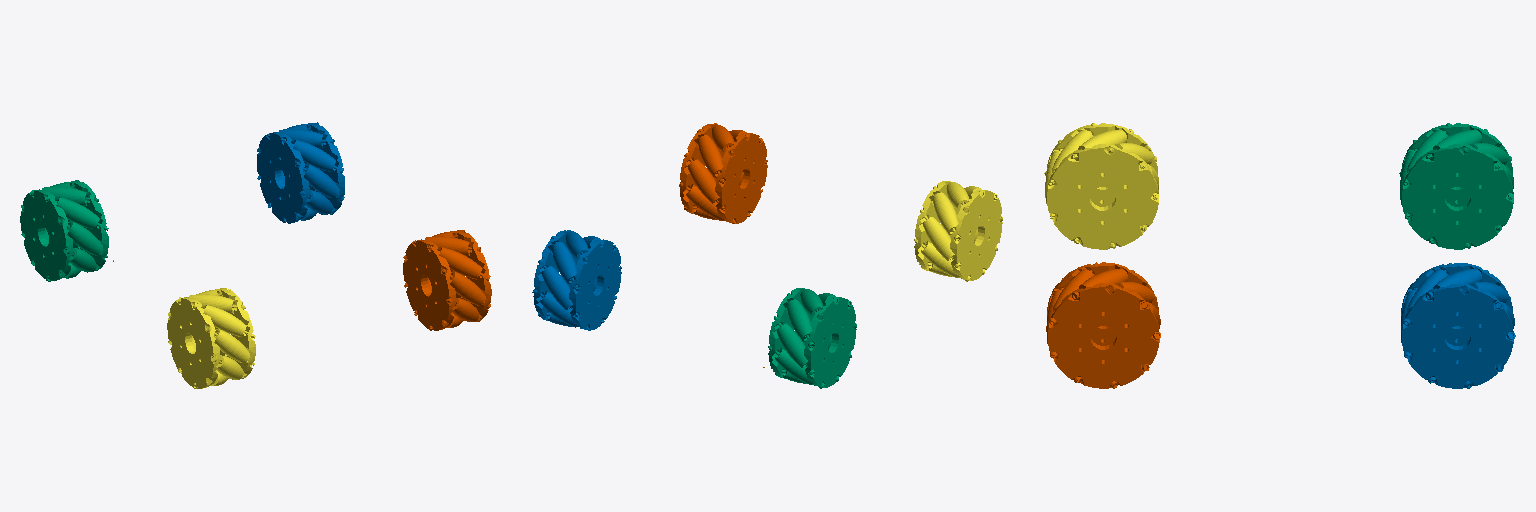
robot.urdf — mecanum_wheeled_robot:
<?xml version="1.0" ?>
<robot name="mecanum_wheeled_robot" >
  <!-- Wheels -->
  <!-- in kg-->
  <!-- Defining the colors used in this robot -->
  <material name="Black">
    <color rgba="0.0 0.0 0.0 1.0"/>
  </material>
  <material name="Red">
    <color rgba="0.8 0.0 0.0 1.0"/>
  </material>
  <material name="White">
    <color rgba="1.0 1.0 1.0 1.0"/>
  </material>
  <material name="Blue">
    <color rgba="0.0 0.0 0.8 1.0"/>
  </material>
  <material name="base">
   <texture filename="package://thedush_robots/texture/texture5.jpg"/>
  </material>
   <material name="Wheels1">
   <texture filename="package://thedush_robots/texture/texture2.png"/>
  </material>
  <!-- PROPERTY LIST -->
  <!--All units in m-kg-s-radians unit system -->
  <!-- Main body radius and height -->
  <!-- Main Body Cylinder base   -->
  <!-- in kg-->
  <!-- caster wheel radius and height -->
  <!-- caster wheel mass -->
  <!-- in kg-->
  <!-- caster wheel radius and height -->
  <!-- caster wheel mass -->
  <!-- in kg-->
  <!-- Wheels -->
 
 
  <!-- in kg-->
  <!-- Hokuyo Laser scanner -->
  <!-- Macro for calculating inertia of cylinder -->
  <!-- BASE-FOOTPRINT -->
  <!-- base_footprint is a fictitious link(frame) that is on the ground right below base_link origin -->
  <link name="base_footprint">
    <inertial>
      <mass value="0.0001"/>
      <origin xyz="0 0 0"/>
      <inertia ixx="0.0001" ixy="0.0" ixz="0.0" iyy="0.0001" iyz="0.0" izz="0.0001"/>
    </inertial>
    <visual>
      <origin rpy="1.57 1.57 1.57" xyz="0 0 0"/>
      <geometry>
        <box size="0.001 0.001 0.001"/>
      </geometry>
    </visual>
  </link>
  <gazebo reference="base_footprint">
    <turnGravityOff>false</turnGravityOff>
  </gazebo>
  <joint name="base_footprint_joint" type="fixed">
    <origin rpy="0 0 0" xyz="0 0 0.04"/>
    <parent link="base_footprint"/>
    <child link="base_link"/>
  </joint>
  <!-- BASE-LINK -->
  <!--Actual body/chassis of the robot-->
  <link name="base_link">
    <inertial>
      <mass value="5"/>
      <origin xyz="0 0 0"/>
      <!--The 3x3 rotational inertia matrix. -->
      <inertia ixx="0.0282916666667" ixy="0" ixz="0" iyy="0.0282916666667" iyz="0" izz="0.05625"/>
    </inertial>
    <visual>
      <origin rpy="1.57079632679 0 0" xyz="0 0 0.03"/>
      <geometry>
       <mesh
          filename="package://thedush_robots/meshes/robot_case/mecanum_case.STL" />
      </geometry>
      <material name="base"/>
    </visual>
    <collision>
      <origin rpy="1.57079632679 0 0 " xyz="0 0 0.04"/>
      <geometry>
        <mesh
          filename="package://thedush_robots/meshes/robot_case/mecanum_case.STL" />
      </geometry>
    </collision>
  </link>
  <gazebo reference="base_link">
    <material>Gazebo/White</material>
    <turnGravityOff>false</turnGravityOff>
  </gazebo>
  <!--fb : front, back ; lr: left, right -->
  <link name="front_right_wheel">
    <visual>
      <origin rpy="1.57079632679 0  1.57079632679 " xyz="0 0 0"/>
      <geometry>
        <mesh
          filename="package://thedush_robots/meshes/wheels/mecanumwheel.STL" />
      </geometry>
      <material name="Wheels1"/>
    </visual>
    <collision>
      <origin rpy="1.57079632679 0 1.57079632679 " xyz="0 0 0"/>
      <geometry>
        <mesh
          filename="package://thedush_robots/meshes/wheels/mecanumwheel.STL"/>
      </geometry>
    </collision>
    <inertial>
      <mass value="2.5"/>
      <origin xyz="0 0 0"/>
      <inertia ixx="0.00108333333333" ixy="0" ixz="0" iyy="0.00108333333333" iyz="0" izz="0.002"/>
    </inertial>
  </link>



   <link name="back_right_wheel">
    <visual>
      <origin rpy="1.57079632679 0  1.57079632679 " xyz="0 0 0"/>
      <geometry>
        <mesh
          filename="package://thedush_robots/meshes/wheels/mecanumwheel.STL"/>
      </geometry>
      <material name="Wheels1"/>
    </visual>
    <collision>
      <origin rpy="1.57079632679 0 1.57079632679 " xyz="0 0 0"/>
      <geometry>
        <mesh
          filename="package://thedush_robots/meshes/wheels/mecanumwheel.STL" />
      </geometry>
    </collision>
    <inertial>
      <mass value="2.5"/>
      <origin xyz="0 0 0"/>
      <inertia ixx="0.00108333333333" ixy="0" ixz="0" iyy="0.00108333333333" iyz="0" izz="0.002"/>
    </inertial>
  </link>



  <gazebo reference="front_right_wheel">
    <mu1 value="1.0"/>
    <mu2 value="1.0"/>
    <kp value="10000000.0"/>
    <kd value="1.0"/>
    <fdir1 value="1 0 0"/>
    <material>Gazebo/Grey</material>
    <turnGravityOff>false</turnGravityOff>
  </gazebo>

 <gazebo reference="back_right_wheel">
    <mu1 value="1.0"/>
    <mu2 value="1.0"/>
    <kp value="10000000.0"/>
    <kd value="1.0"/>
    <fdir1 value="1 0 0"/>
    <material>Gazebo/Grey</material>
    <turnGravityOff>false</turnGravityOff>
  </gazebo>

  <joint name="front_right_wheel_joint" type="continuous">
    <parent link="base_link"/>
    <child link="front_right_wheel"/>
    <origin rpy="0 0 0" xyz="-0.18381026754975 0.00933097076 0.01"/>
    <axis rpy="0 0" xyz="1 0 0">
    </axis>
    <limit effort="100" velocity="100"/>
    <joint_properties damping="0.0" friction="0.0"/>
  </joint>


  <joint name="back_right_wheel_joint" type="continuous">
    <parent link="base_link"/>
    <child link="back_right_wheel"/>
    <origin rpy="0 0 0" xyz="-0.18381026754975 -0.308708338737 0.01"/>
    <axis rpy="0  0" xyz="1 0 0"/>
    <limit effort="100" velocity="100"/>
    <joint_properties damping="0.0" friction="0.0"/>
  </joint>

  <!-- Transmission is important to link the joints and the controller -->
  <transmission name="front_right_wheel_joint_trans">
    <type>transmission_interface/SimpleTransmission</type>
    <joint name="front_right_wheel_joint"/>
    <actuator name="front_right_wheel_joint_motor">
      <hardwareInterface>EffortJointInterface</hardwareInterface>
      <mechanicalReduction>1</mechanicalReduction>
    </actuator>
  </transmission>

 <transmission name="back_right_wheel_joint_trans">
    <type>transmission_interface/SimpleTransmission</type>
    <joint name="back_right_wheel_joint"/>
    <actuator name="back_right_wheel_joint_motor">
      <hardwareInterface>EffortJointInterface</hardwareInterface>
      <mechanicalReduction>1</mechanicalReduction>
    </actuator>
  </transmission>


  <!--fb : front, back ; lr: left, right -->
  <link name="front_left_wheel">
    <visual>
      <origin rpy="1.57079632679 0  -1.57079632679 " xyz="0 0 0"/>
      <geometry>
        <mesh
          filename="package://thedush_robots/meshes/wheels/mecanumwheel.STL" />
      </geometry>
      <material name="Wheels1"/>
    </visual>
    <collision>
      <origin rpy="1.57079632679 0 -1.57079632679 " xyz="0 0 0"/>
      <geometry>
        <mesh
          filename="package://thedush_robots/meshes/wheels/mecanumwheel.STL"/>
      </geometry>
    </collision>
    <inertial>
      <mass value="2.5"/>
      <origin xyz="0 0 0"/>
      <inertia ixx="0.00108333333333" ixy="0" ixz="0" iyy="0.00108333333333" iyz="0" izz="0.002"/>
    </inertial>
  </link>

   <link name="back_left_wheel">
    <visual>
      <origin rpy="1.57079632679 0  -1.57079632679 " xyz="0 0 0"/>
      <geometry>
        <mesh
          filename="package://thedush_robots/meshes/wheels/mecanumwheel.STL" />
      </geometry>
      <material name="Wheels1"/>
    </visual>
    <collision>
      <origin rpy="1.57079632679 0 -1.57079632679 " xyz="0 0 0"/>
      <geometry>
        <mesh
          filename="package://thedush_robots/meshes/wheels/mecanumwheel.STL" />
      </geometry>
    </collision>
    <inertial>
      <mass value="2.5"/>
      <origin xyz="0 0 0"/>
      <inertia ixx="0.00108333333333" ixy="0" ixz="0" iyy="0.00108333333333" iyz="0" izz="0.002"/>
    </inertial>
  </link>


  <gazebo reference="front_left_wheel">
    <mu1 value="1.0"/>
    <mu2 value="1.0"/>
    <kp value="10000000.0"/>
    <kd value="1.0"/>
    <fdir1 value="1 0 0"/>
    <material>Gazebo/Grey</material>
    <turnGravityOff>false</turnGravityOff>
  </gazebo>

  <gazebo reference="back_left_wheel">
    <mu1 value="1.0"/>
    <mu2 value="1.0"/>
    <kp value="10000000.0"/>
    <kd value="1.0"/>
    <fdir1 value="1 0 0"/>
    <material>Gazebo/Grey</material>
    <turnGravityOff>false</turnGravityOff>
  </gazebo>


  <joint name="front_left_wheel_joint" type="continuous">
    <parent link="base_link"/>
    <child link="front_left_wheel"/>
    <origin rpy="0 0 0" xyz="0.35695439024 -0.00833097076 0.01"/>
    <axis rpy="0  0" xyz="1 0 0"/>
    <limit effort="100" velocity="100"/>
    <joint_properties damping="0.0" friction="0.0"/>
  </joint>



  <joint name="back_left_wheel_joint" type="continuous">
    <parent link="base_link"/>
    <child link="back_left_wheel"/>
    <origin rpy="0 0 0" xyz="0.3565439024 -0.325708338737 0.01"/>
    <axis rpy="0  0" xyz="1 0 0"/>
    <limit effort="100" velocity="100"/>
    <joint_properties damping="0.0" friction="0.0"/>
  </joint>

  <!-- Transmission is important to link the joints and the controller -->
  <transmission name="front_left_wheel_joint_trans">
    <type>transmission_interface/SimpleTransmission</type>
    <joint name="front_left_wheel_joint"/>
    <actuator name="front_left_wheel_joint_motor">
      <hardwareInterface>EffortJointInterface</hardwareInterface>
      <mechanicalReduction>1</mechanicalReduction>
    </actuator>
  </transmission>



    <transmission name="back_left_wheel_joint_trans">
    <type>transmission_interface/SimpleTransmission</type>
    <joint name="back_left_wheel_joint"/>
    <actuator name="back_left_wheel_joint_motor">
      <hardwareInterface>EffortJointInterface</hardwareInterface>
      <mechanicalReduction>1</mechanicalReduction>
    </actuator>
  </transmission>

  
 


 
  <link name="hokuyo_link">
    <visual>
      <origin rpy="0 0 1.57079632679" xyz="0 0 0"/>
      <geometry>
        <mesh
          filename="package://thedush_robots/meshes/sensors/xtion_pro_live.dae"/>
    
       <!--  <box size="0.05 0.05 0.05"/> -->
      </geometry>
      <material name="Blue"/>
    </visual>
  </link>
  <joint name="hokuyo_joint" type="fixed">
    <origin rpy="0 0 0" xyz="0.0926225844026 0.0192884281278 0.129905364513"/>
    <parent link="base_link"/>
    <child link="hokuyo_link"/>
  </joint>
  <gazebo reference="hokuyo_link">
    <material>Gazebo/Grey</material>
    <turnGravityOff>false</turnGravityOff>
    <sensor name="head_hokuyo_sensor" type="ray">
      <pose>0.025 0 0 0 0 0</pose>
      <visualize>false</visualize>
      <update_rate>40</update_rate>
      <ray>
        <scan>
          <horizontal>
            <samples>720</samples>
            <resolution>1</resolution>
            <min_angle>-1.570796</min_angle>
            <max_angle>1.570796</max_angle>
          </horizontal>
        </scan>
        <range>
          <min>0.10</min>
          <max>10.0</max>
          <resolution>0.001</resolution>
        </range>
      </ray>
      <plugin filename="libgazebo_ros_laser.so" name="gazebo_ros_head_hokuyo_controller">
        <topicName>/scan</topicName>
        <frameName>hokuyo_link</frameName>
      </plugin>
    </sensor>
  </gazebo>



  <gazebo>
    <plugin name="object_controller" filename="libgazebo_ros_planar_move.so">
      <commandTopic>cmd_vel</commandTopic>
      <odometryTopic>odom</odometryTopic>
      <odometryFrame>odom</odometryFrame>
      <odometryRate>20.0</odometryRate>
      <robotBaseFrame>base_footprint</robotBaseFrame>
    </plugin>
  </gazebo>
  <!--
	  <gazebo>
	    <plugin name="kobuki_controller" filename="libgazebo_ros_kobuki.so">
	      <publish_tf>1</publish_tf>
	      <left_wheel_joint_name>front_left_wheel_joint</left_wheel_joint_name>
	      <right_wheel_joint_name>front_right_wheel_joint</right_wheel_joint_name>
	      <wheel_separation>.30</wheel_separation>
	      <wheel_diameter>0.08</wheel_diameter>
	      <torque>30.0</torque>
	      <velocity_command_timeout>0.6</velocity_command_timeout>


	    </plugin>
	  </gazebo>

-->
  <!--
<gazebo>
    <plugin name="gazebo_ros_control" filename="libgazebo_ros_control.so" />
    <plugin filename="libgazebo_ros_joint_state_publisher.so" name="joint_state_publisher">
      <jointName>front_right_wheel_joint, front_left_wheel_joint</jointName>
      <updateRate>10.0</updateRate>
      <alwaysOn>true</alwaysOn>
    </plugin>
</gazebo>
-->
</robot>

--- Render facts (derived) ---
The picture shows the robot from 3 angles, left to right: view 1: azimuth 30°, elevation 25°; view 2: azimuth 150°, elevation 25°; view 3: azimuth 270°, elevation 25°; orthographic projection.
Robot: mecanum_wheeled_robot — 7 links, 6 joints (4 continuous, 2 fixed); root link base_footprint; default pose: every joint at zero.
Links seen in each view (by area): view 1: back_right_wheel, front_left_wheel, back_left_wheel, front_right_wheel; view 2: back_right_wheel, front_right_wheel, back_left_wheel, front_left_wheel; view 3: front_right_wheel, back_right_wheel, front_left_wheel, back_left_wheel.
Link boxes in pixels (box(x1,y1,x2,y2)): back_right_wheel: box(167, 288, 255, 388); front_left_wheel: box(257, 122, 344, 223); back_left_wheel: box(403, 230, 491, 330); front_right_wheel: box(20, 180, 108, 281); back_right_wheel: box(914, 181, 1002, 281); front_right_wheel: box(768, 288, 856, 388); back_left_wheel: box(679, 123, 767, 223); front_left_wheel: box(532, 230, 621, 330); front_right_wheel: box(1399, 123, 1513, 249); back_right_wheel: box(1044, 123, 1158, 249); front_left_wheel: box(1401, 263, 1515, 388); back_left_wheel: box(1046, 262, 1160, 388).
Size in the robot's own frame: 0.352 by 0.4222 by 0.1027 metres.
Meshes: 3 distinct files referenced, 4 mesh visuals loaded (1 binary STL); not drawn: 2 (reference not matched to a file when rendering).
